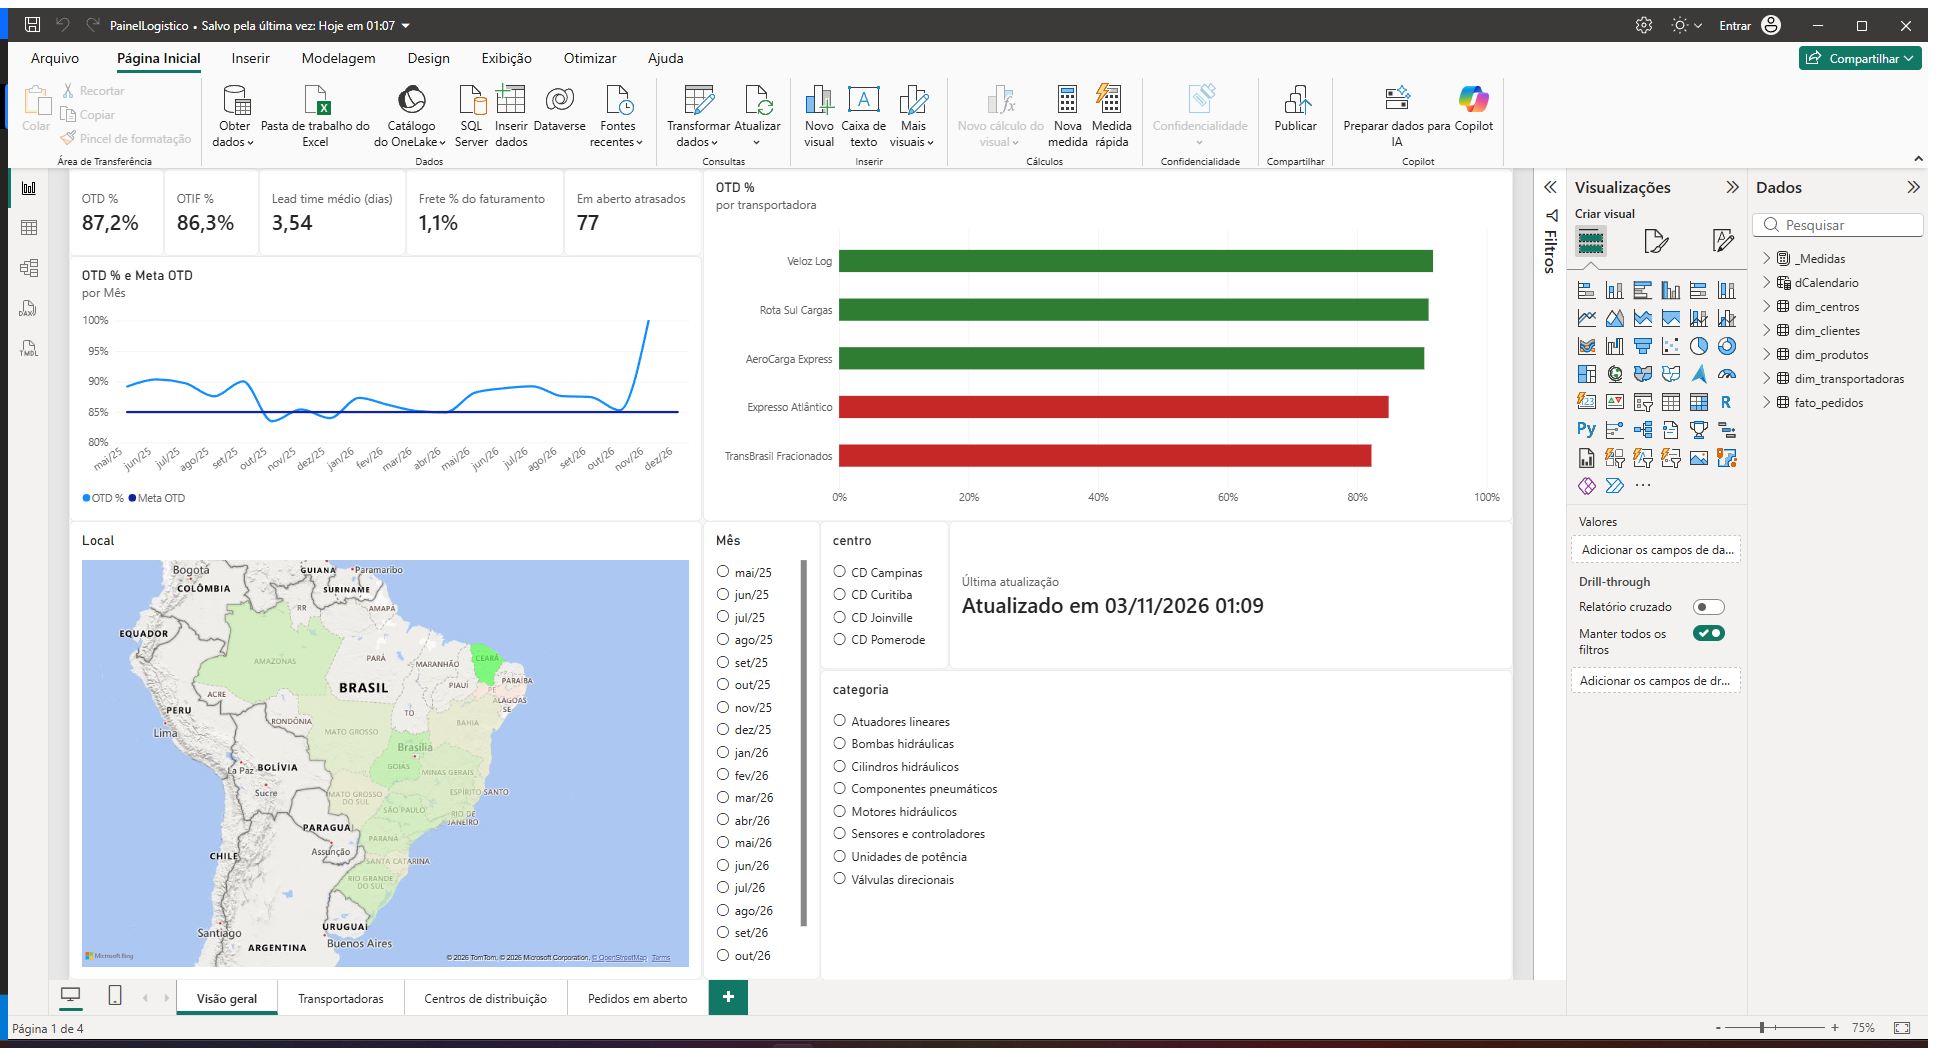

Layout of this report page (visuals, bound fields, positions):
{"tool":"powerbi","page":{"name":"Visão geral","canvas":[1920,1080],"ordinal":0},"visuals":[{"type":"group","id":"g1","title":"Grupo 1","box":[0,0,841.9,117],"z":0},{"type":"cardVisual","fields":{"Data":["_Medidas.OTD %"]},"box":[0,0,126.4,117],"z":0,"group":"g1"},{"type":"cardVisual","fields":{"Data":["_Medidas.OTIF %"]},"box":[126.4,0,126.4,117],"z":1000,"group":"g1"},{"type":"lineChart","fields":{"Category":["dCalendario.Mês"],"Y":["_Medidas.OTD %","_Medidas.Meta OTD"]},"box":[0,116.7,841.8,353.1],"z":1000},{"type":"cardVisual","fields":{"Data":["_Medidas.Lead time médio (dias)"]},"box":[252.7,0,195.5,117],"z":2000,"group":"g1"},{"type":"filledMap","fields":{"Category":["dim_clientes.Local"]},"box":[0,469.8,841.8,609.8],"z":2000},{"type":"cardVisual","fields":{"Data":["_Medidas.Frete % do faturamento"]},"box":[448.2,0,210.1,117],"z":3000,"group":"g1"},{"type":"clusteredBarChart","fields":{"Category":["dim_transportadoras.transportadora"],"Y":["_Medidas.OTD %"]},"box":[842.9,0,1077.1,470],"z":3000},{"type":"listSlicer","fields":{"Values":["dCalendario.Mês"]},"box":[842.9,470,155.7,610],"z":3001},{"type":"listSlicer","fields":{"Values":["dim_centros.centro"]},"box":[998.6,470,171.4,197.1],"z":3002},{"type":"listSlicer","fields":{"Values":["dim_produtos.categoria"]},"box":[998.6,667.1,921.4,412.9],"z":3003},{"type":"cardVisual","fields":{"Data":["_Medidas.Última atualização"]},"box":[1170,470,750,197.1],"z":3004},{"type":"cardVisual","fields":{"Data":["_Medidas.Em aberto atrasados"]},"box":[658.4,0,183.5,117],"z":4000,"group":"g1"}]}

Visuals, with their boxes on the page's 1920x1080 design canvas (x1, y1, x2, y2). These are canvas units, not pixel positions in the 1936x1048 screenshot, which may show the page scaled, cropped or inside an application window:
"Grupo 1" group: 0, 0, 842, 117
cardVisual - _Medidas.OTD %: 0, 0, 126, 117
cardVisual - _Medidas.OTIF %: 126, 0, 253, 117
lineChart - dCalendario.Mês x _Medidas.OTD %: 0, 117, 842, 470
cardVisual - _Medidas.Lead time médio (dias): 253, 0, 448, 117
filledMap - dim_clientes.Local: 0, 470, 842, 1080
cardVisual - _Medidas.Frete % do faturamento: 448, 0, 658, 117
clusteredBarChart - dim_transportadoras.transportadora x _Medidas.OTD %: 843, 0, 1920, 470
listSlicer - dCalendario.Mês: 843, 470, 999, 1080
listSlicer - dim_centros.centro: 999, 470, 1170, 667
listSlicer - dim_produtos.categoria: 999, 667, 1920, 1080
cardVisual - _Medidas.Última atualização: 1170, 470, 1920, 667
cardVisual - _Medidas.Em aberto atrasados: 658, 0, 842, 117
